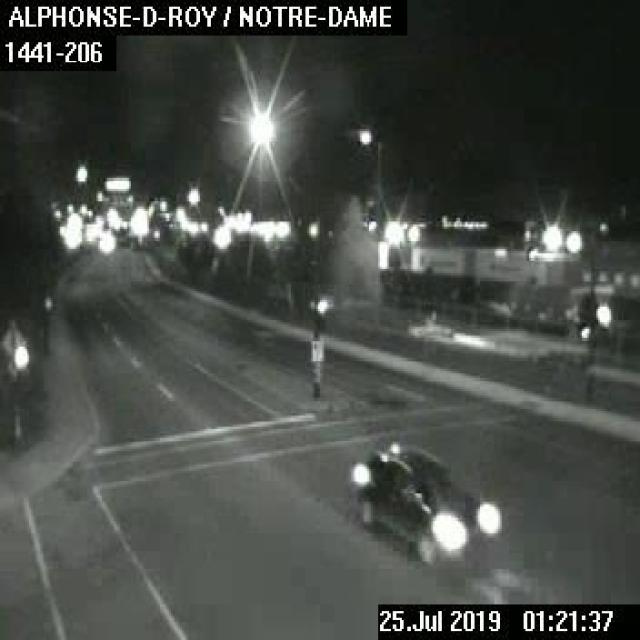vehicle: (352, 442, 503, 569)
